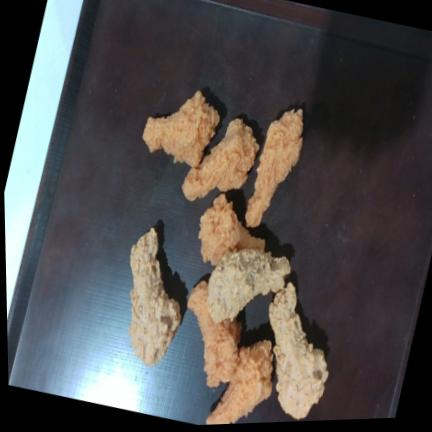chicken: (268, 282, 327, 419), (128, 227, 181, 365), (245, 109, 302, 226), (181, 118, 259, 200), (207, 248, 290, 323), (142, 90, 219, 166), (187, 281, 241, 387), (206, 341, 272, 425), (198, 193, 264, 265)
